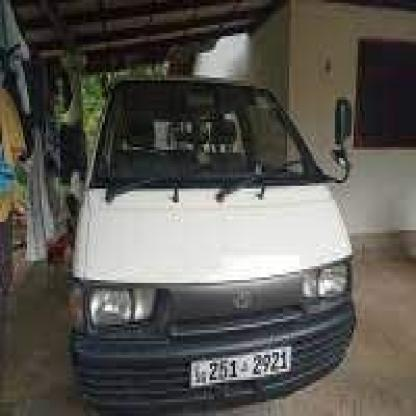number plate: (207, 352, 290, 384)
van front: (56, 54, 357, 416)
